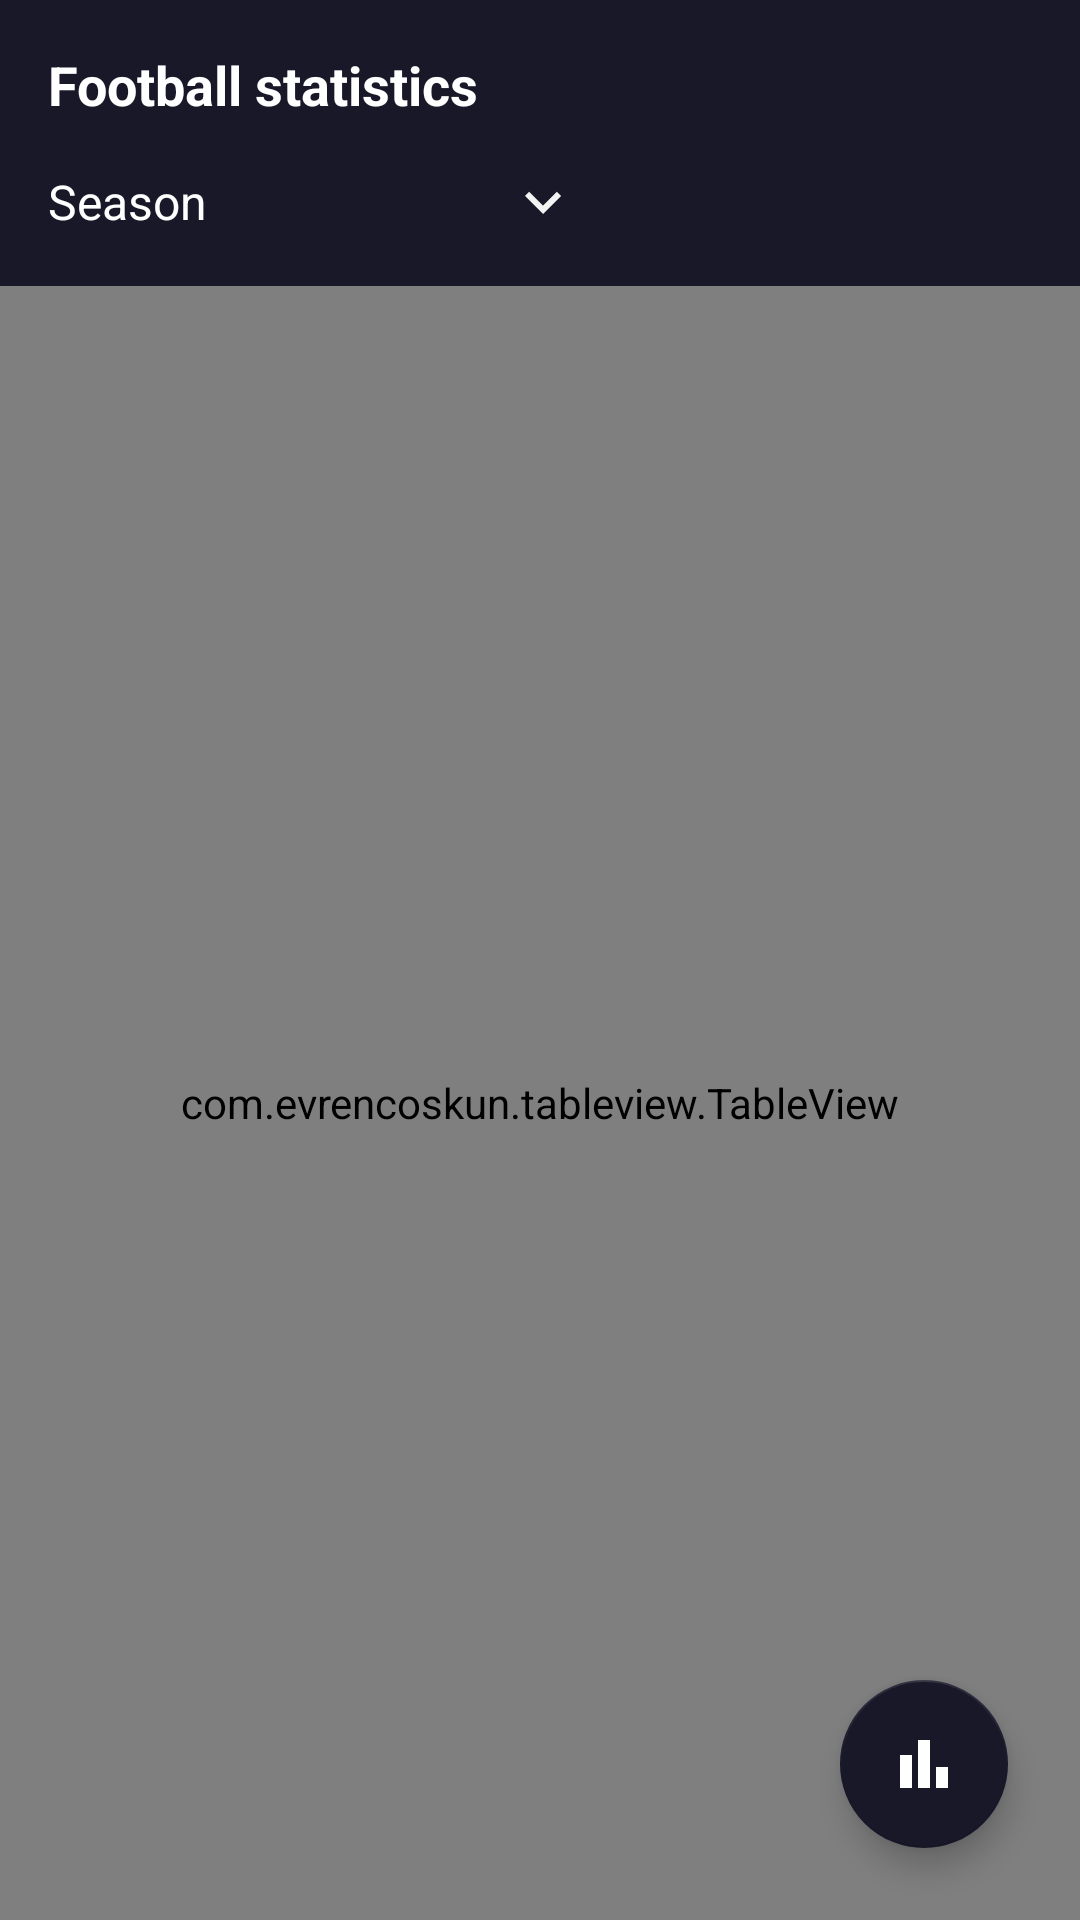

Icon bounding boxes for this 1080 × 1920 phone screenshot, format (x1, y1, x2, y2):
chart: (840, 1680, 1008, 1848)
